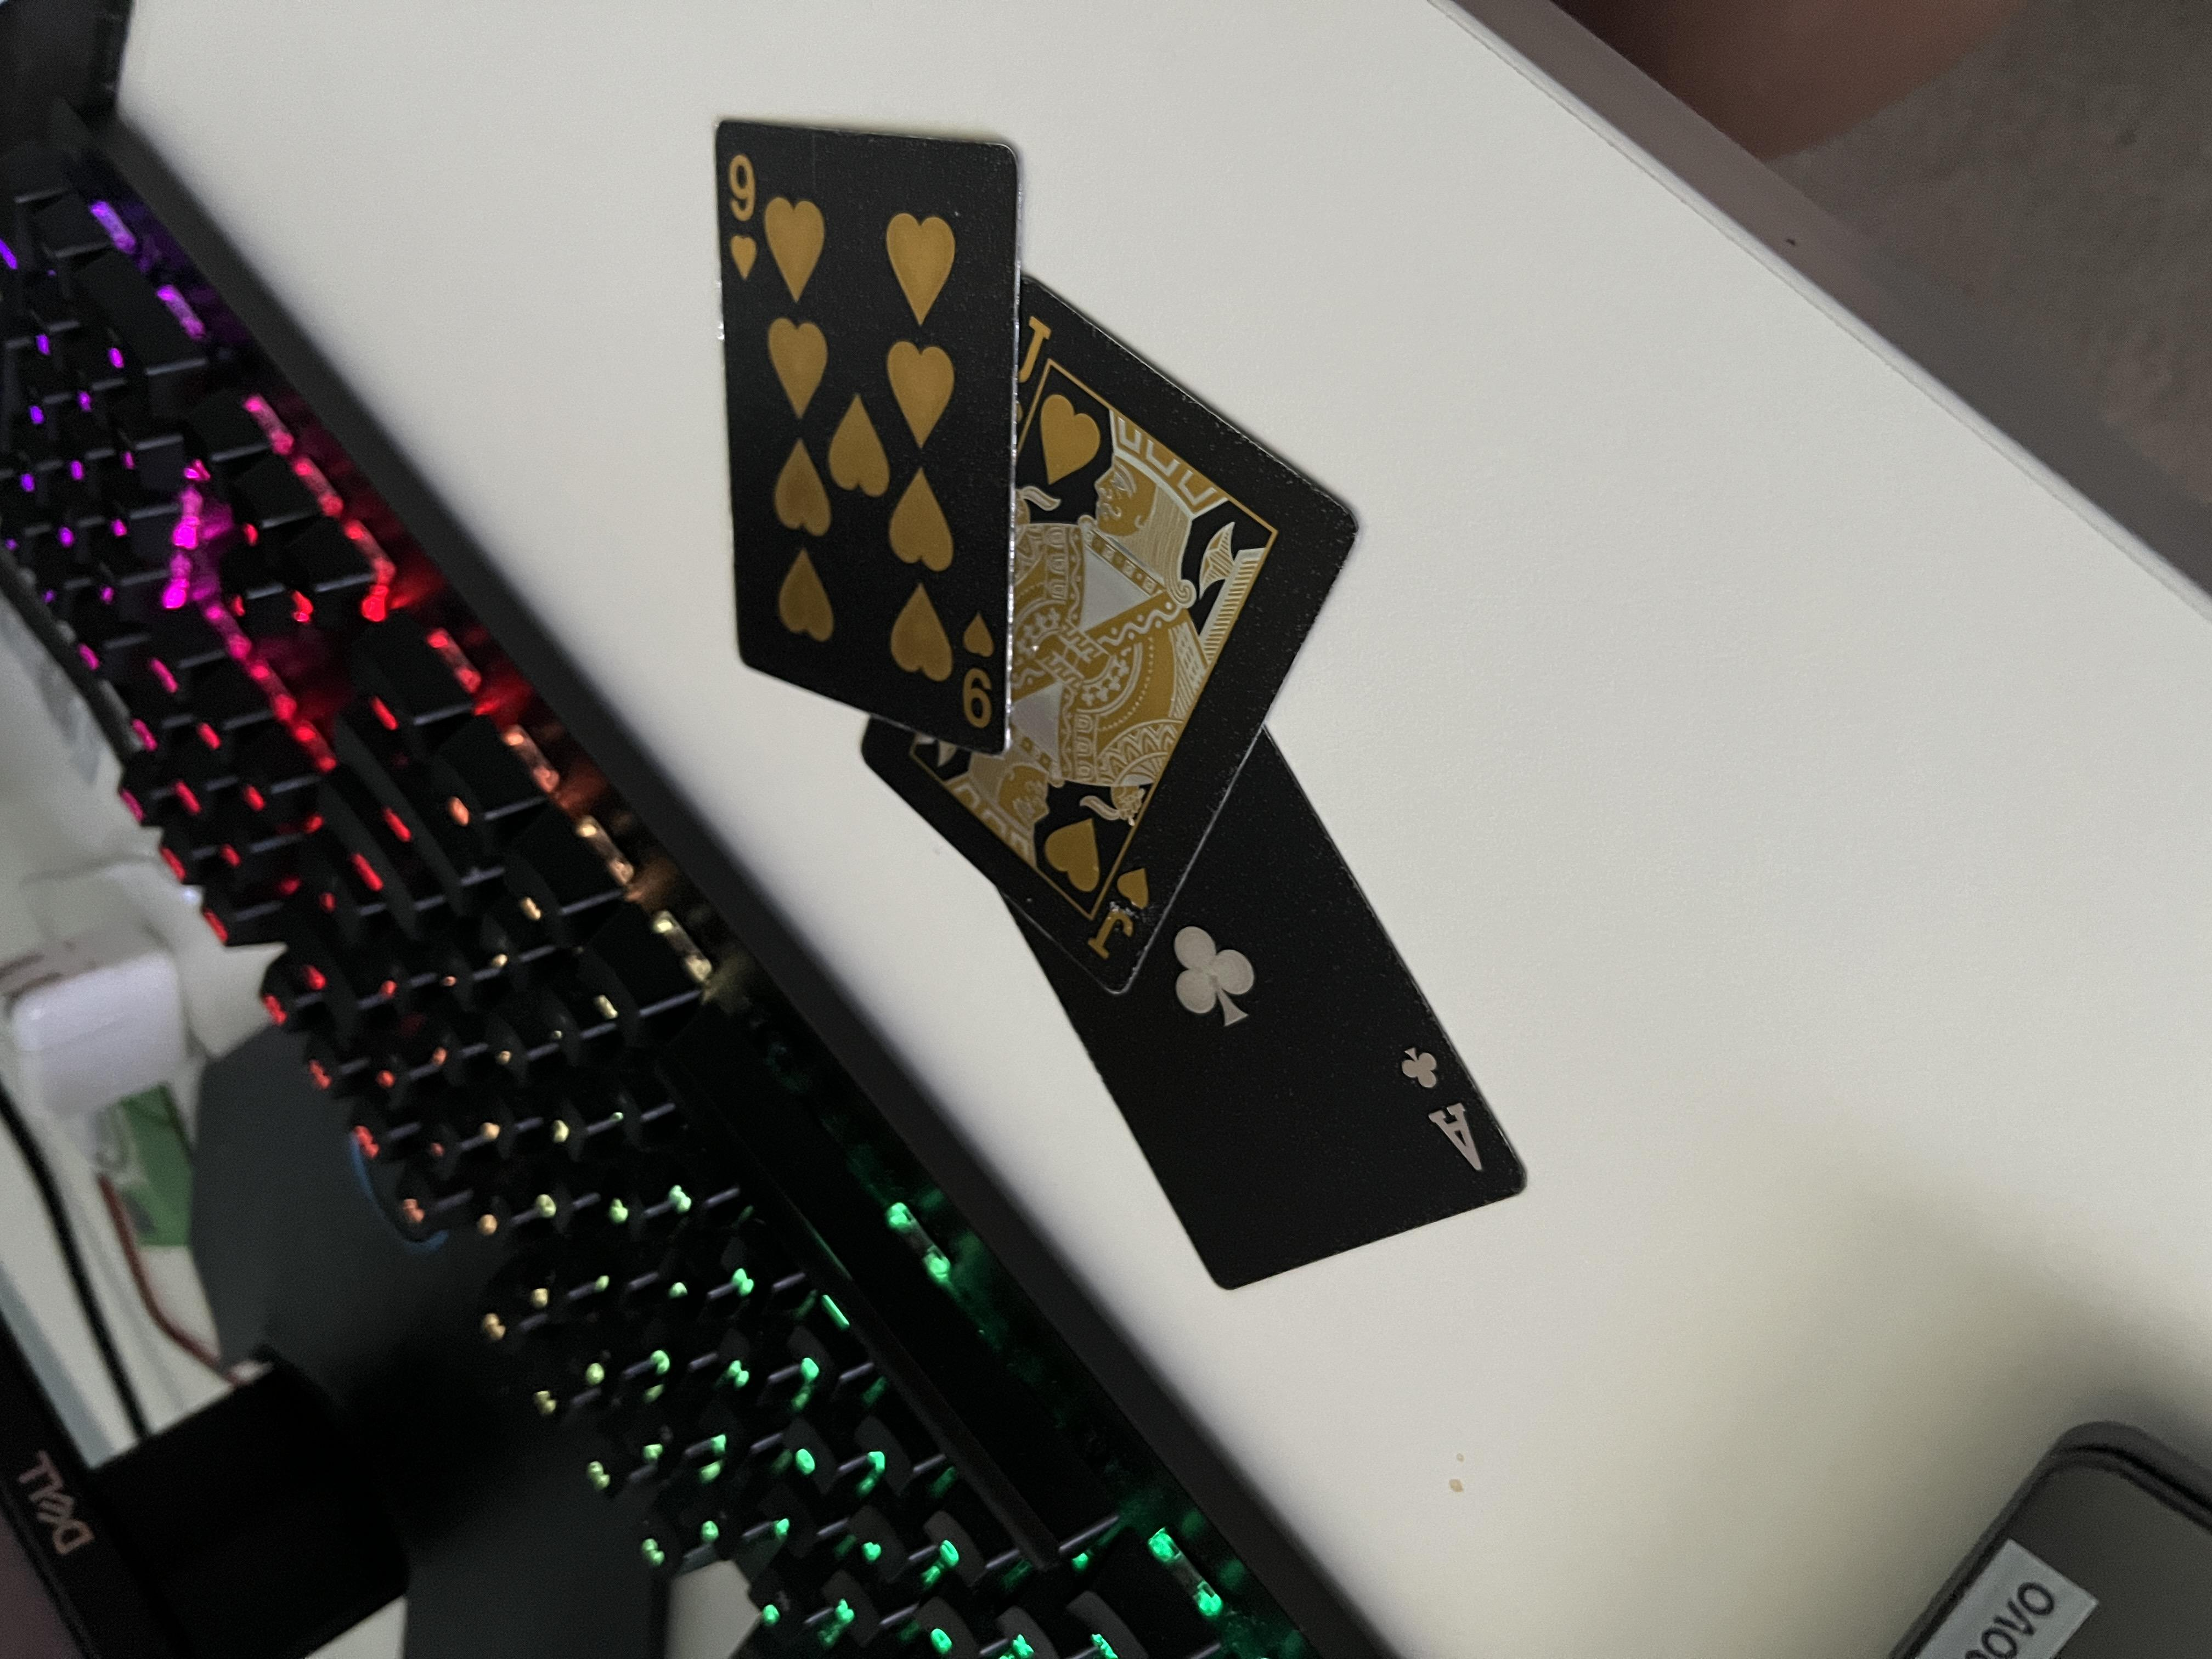9H: (1815, 535, 2038, 573), (1240, 716, 1416, 755)
AC: (622, 1044, 871, 1121)
JH: (921, 819, 1087, 868)
